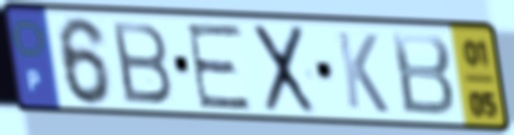6: (55, 13, 117, 108)
B: (387, 29, 459, 120), (108, 18, 176, 107)
E: (183, 22, 255, 112)
K: (333, 28, 392, 117)
X: (251, 21, 318, 117)
